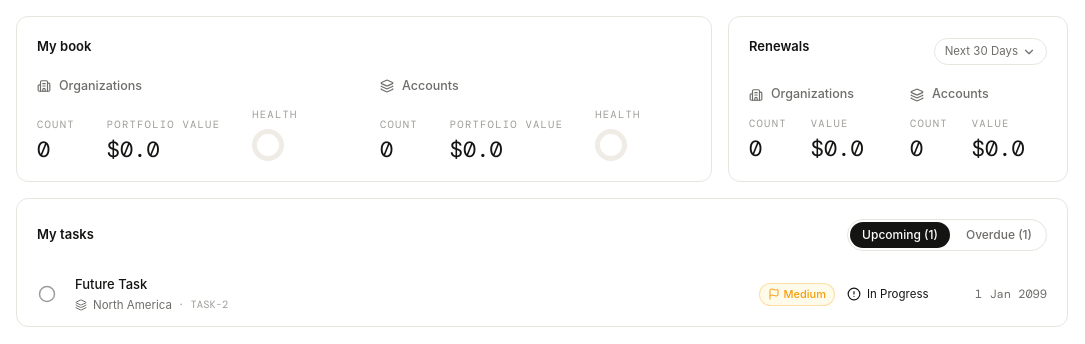
Test: CockpitView › buckets real tasks into Overdue/Upcoming by due_date, excluding completed
expect the tab "Upcoming (1)" is shown: met, box x1=850 y1=222 x2=950 y2=248
expect the text "Future Task" is shown: met, box x1=75 y1=276 x2=147 y2=292
Click the tab "Overdue (1)" at (999, 235), box x1=954 y1=222 x2=1044 y2=248
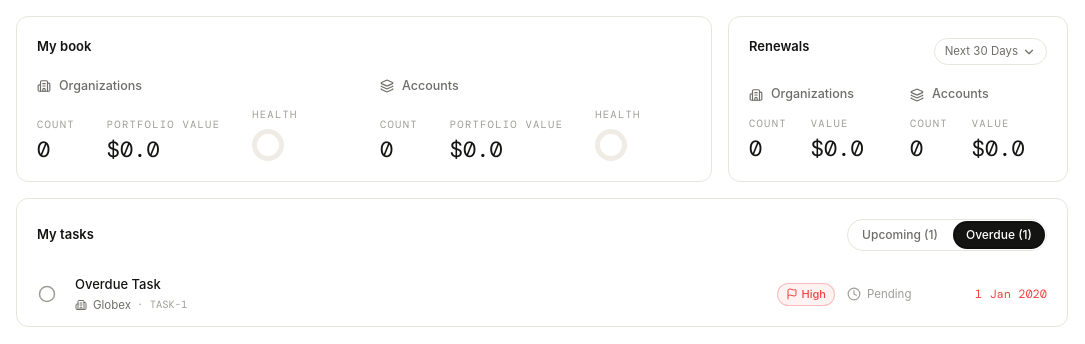
expect the text "Overdue Task" is shown: met, box x1=75 y1=276 x2=161 y2=292
expect the text "Globex" is shown: met, box x1=93 y1=296 x2=131 y2=314
